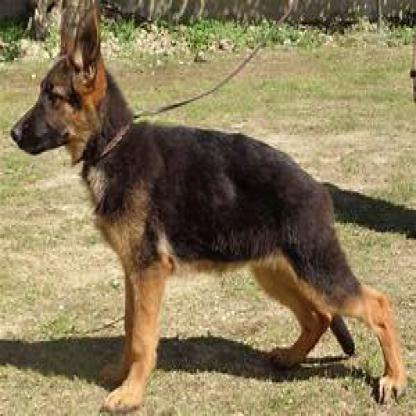dog: (10, 6, 408, 410)
